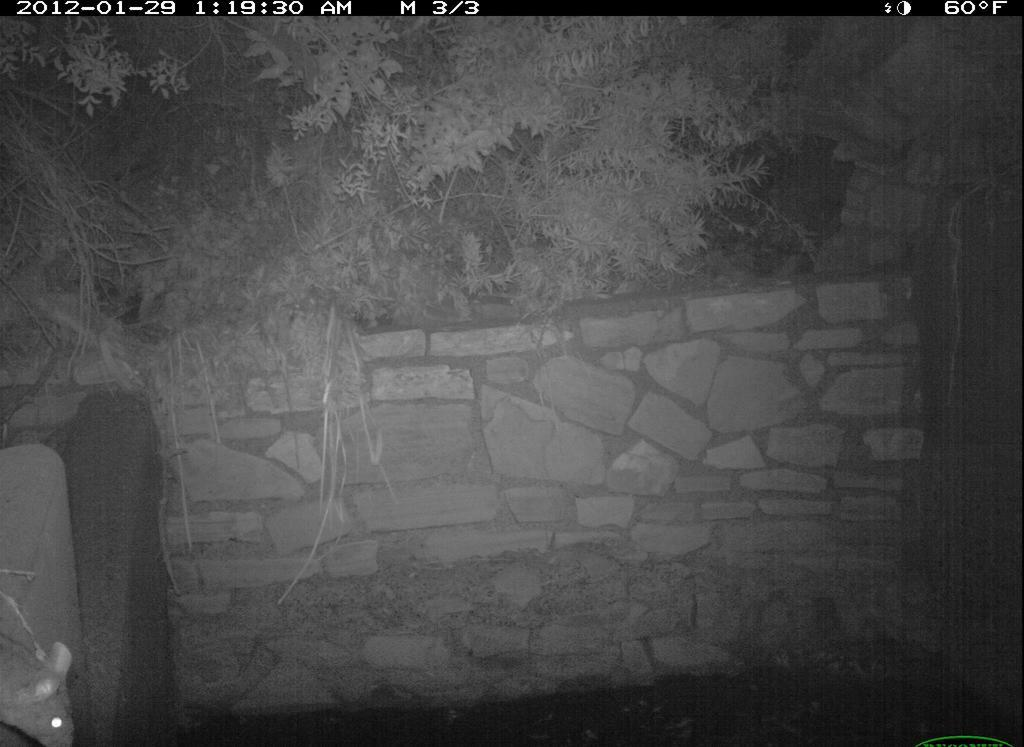rodent: (2, 630, 86, 747)
